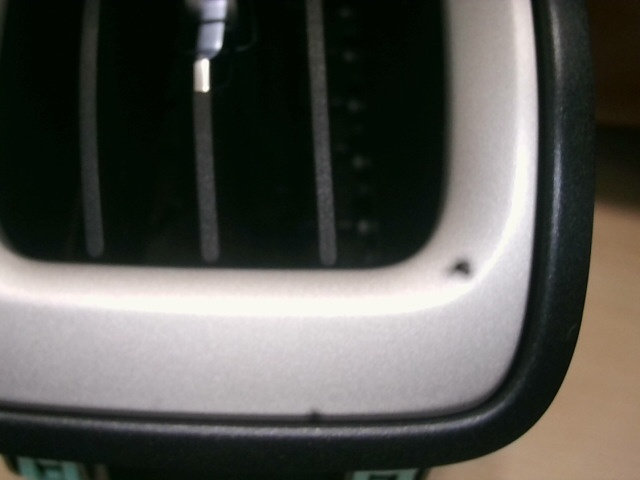NG: (563, 316, 579, 343)
